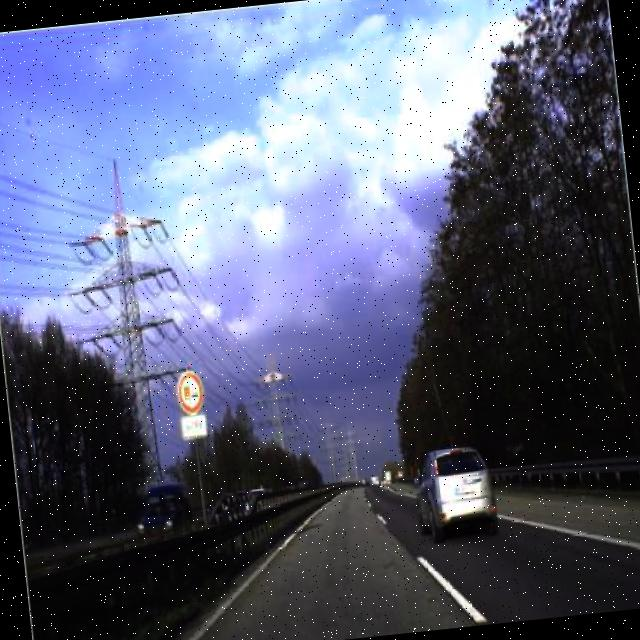Zakaz wyprzedzania: (172, 366, 208, 416)
